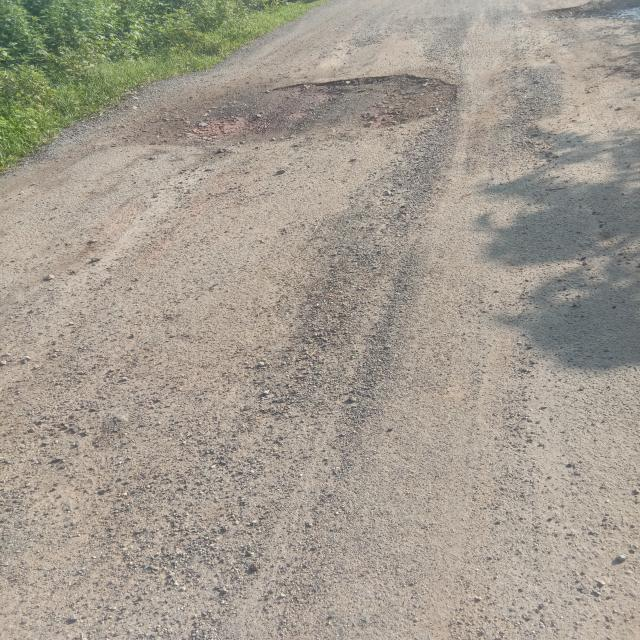potholes: (198, 71, 466, 148)
